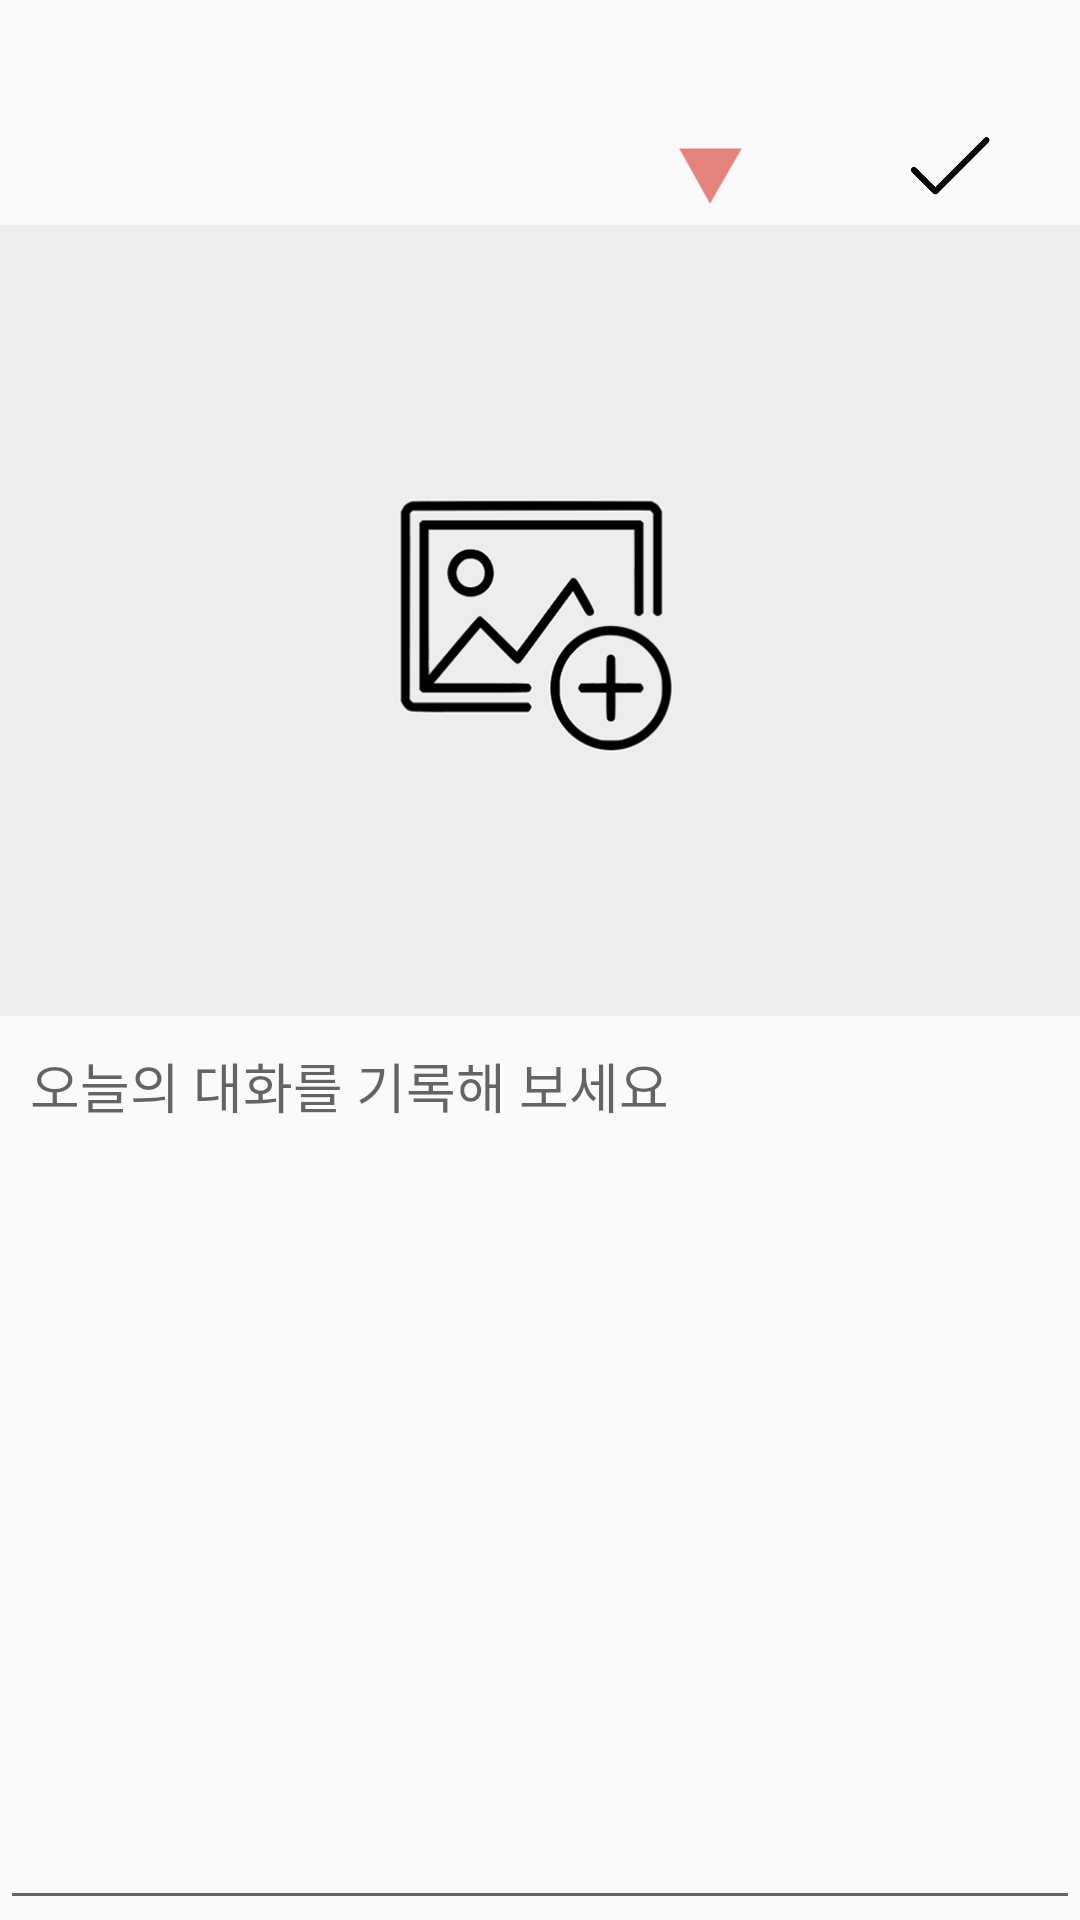

Icon bounding boxes for this 1080 x 1920 phone screenshot, format {"left": x1, "top": y1, "right": x2, "bottom": y2}:
savebtn: {"left": 911, "top": 137, "right": 990, "bottom": 195}
selecdatebtn: {"left": 679, "top": 148, "right": 742, "bottom": 203}
